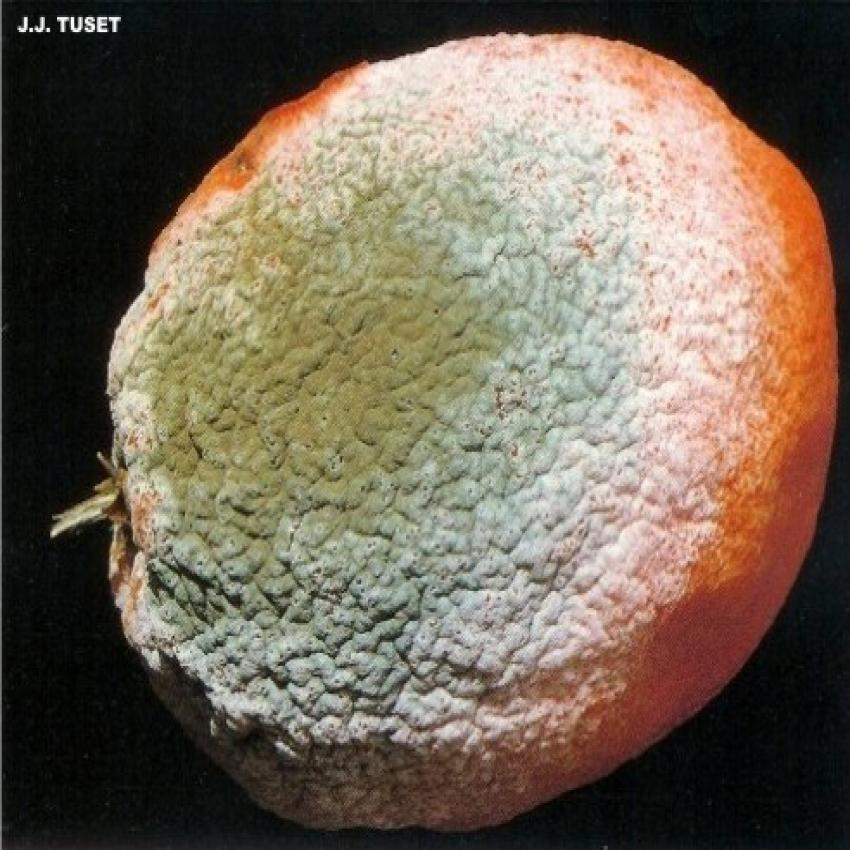Mal estado: (51, 21, 842, 842)
